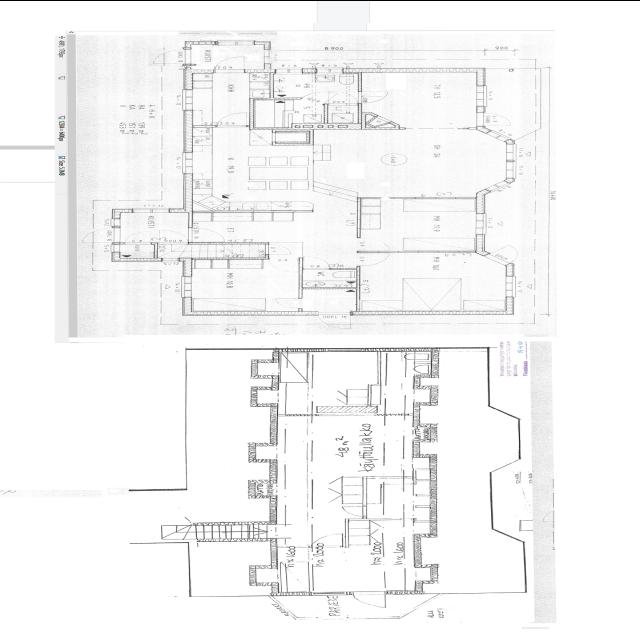door: (351, 588, 391, 609), (486, 243, 520, 266), (151, 47, 193, 65), (479, 110, 516, 128), (357, 88, 393, 105), (311, 531, 345, 549), (214, 111, 252, 127), (212, 55, 248, 71), (190, 226, 226, 242), (355, 236, 392, 251), (82, 227, 116, 243), (300, 90, 338, 104), (318, 315, 356, 329), (355, 252, 392, 266), (158, 227, 190, 243), (124, 229, 155, 243), (274, 296, 304, 308), (340, 505, 370, 517)
window: (473, 206, 496, 237), (504, 141, 522, 179), (177, 150, 197, 174), (485, 126, 511, 143), (474, 83, 491, 108), (485, 177, 511, 193), (325, 346, 374, 354), (178, 275, 194, 299), (180, 88, 196, 112), (503, 275, 517, 299), (131, 206, 173, 214), (272, 67, 304, 75), (216, 39, 258, 45), (314, 67, 352, 73), (262, 47, 274, 64), (160, 257, 183, 263), (109, 243, 122, 253), (108, 216, 120, 226)
